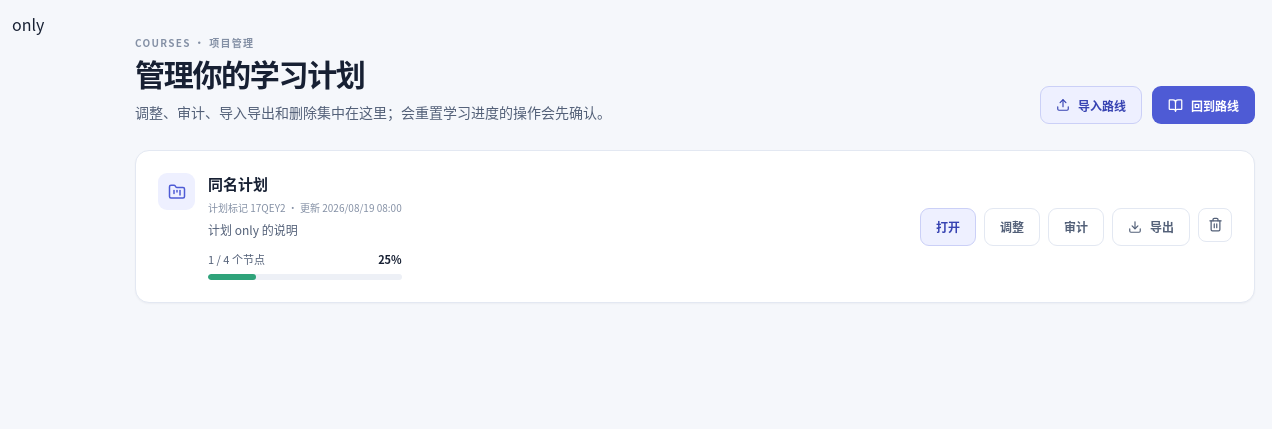
Test: current project selection › clears the current selection when deleting the last plan
Click the 4th button at (1215, 225), box [1198,208,1232,242]
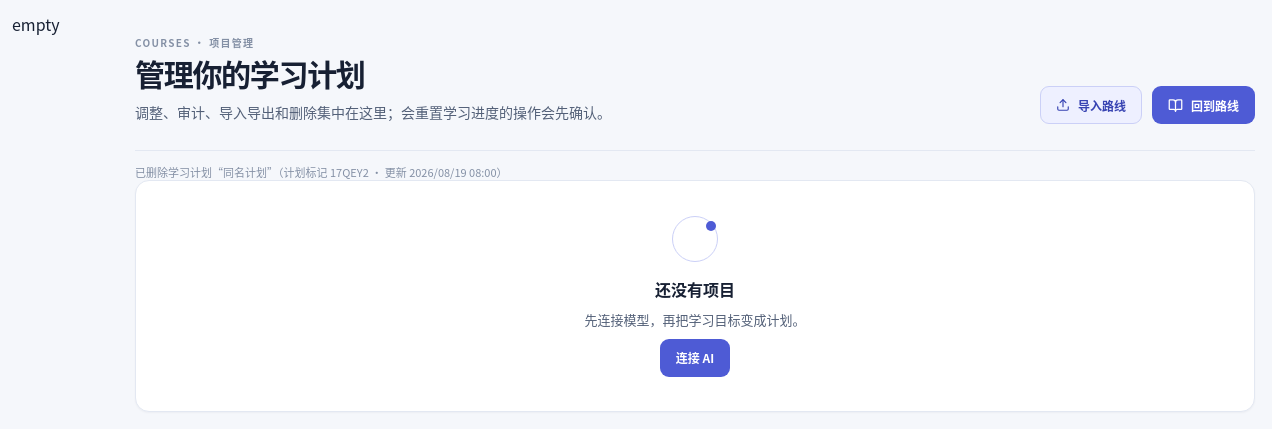
Result: the text "已删除学习计划“同名计划”" is shown at [135,164,508,180]
Result: the text named "当前选择" reads "empty" at [12,12,60,36]
